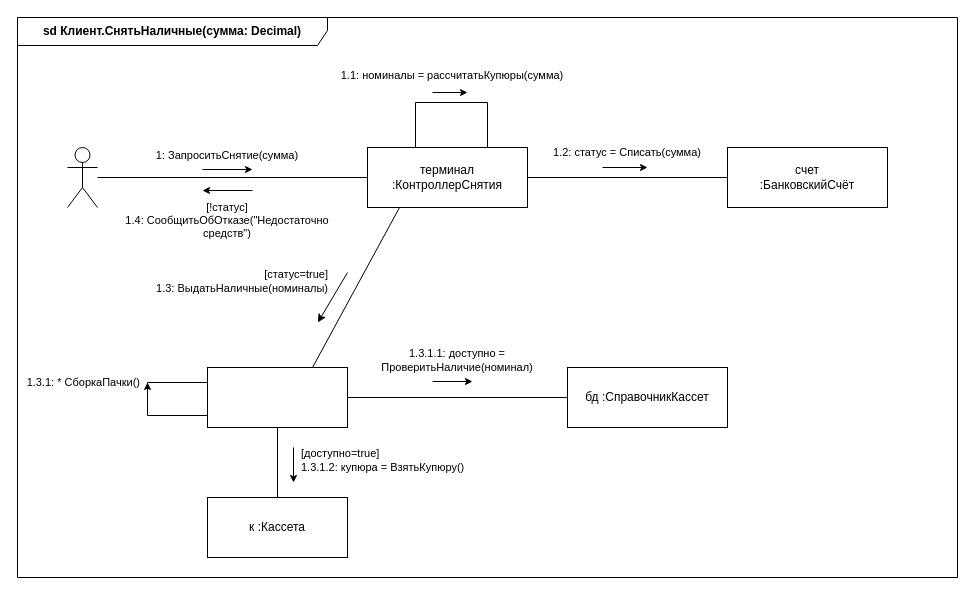
Image size: 975x595. Some labels were removed from this diagram. Here are the shapes that lost their labels. From the top down, the centre of each, then its label:
At point (82, 177): ":Клиент".
At point (277, 397): "д :Диспенсер".
